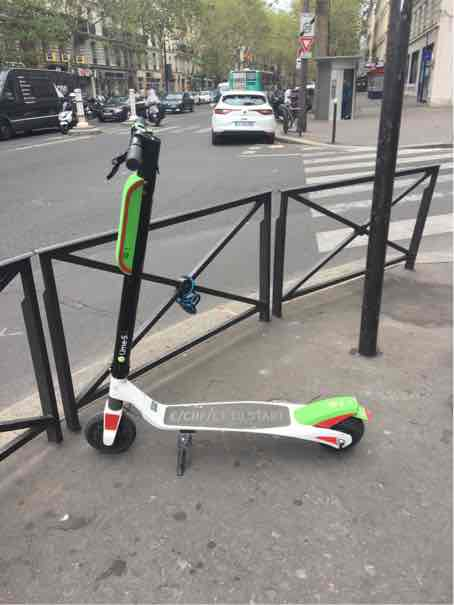scooter: (74, 102, 369, 465)
